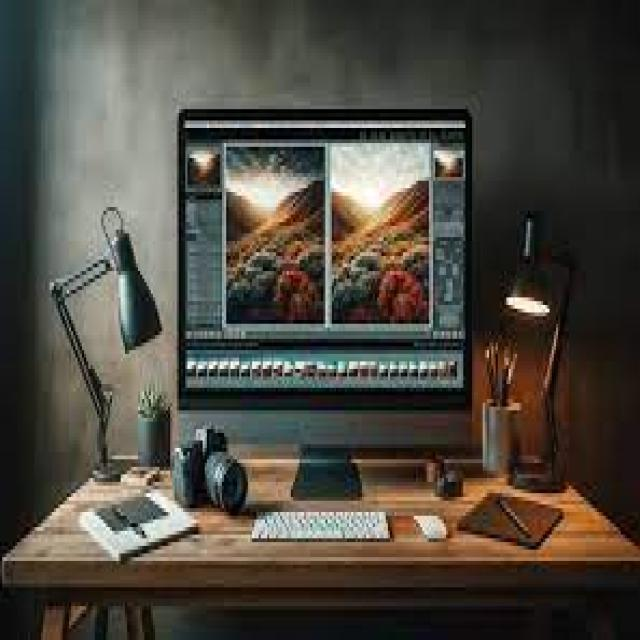monitor: (176, 106, 474, 452)
